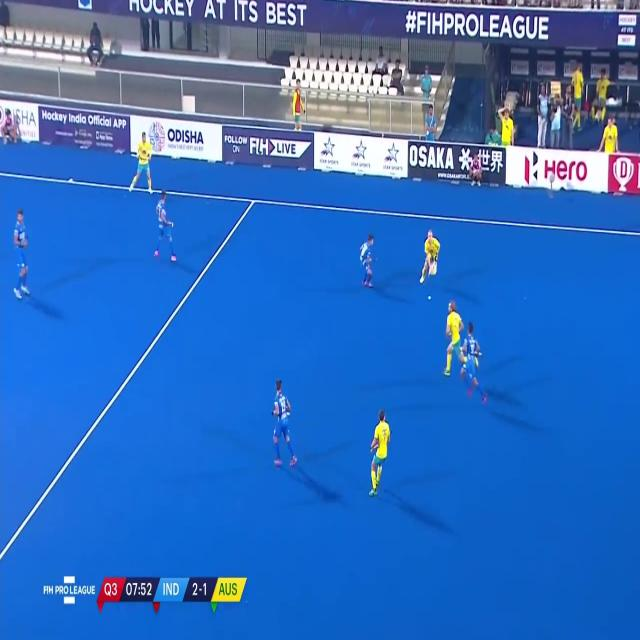ball: (426, 292, 433, 304)
